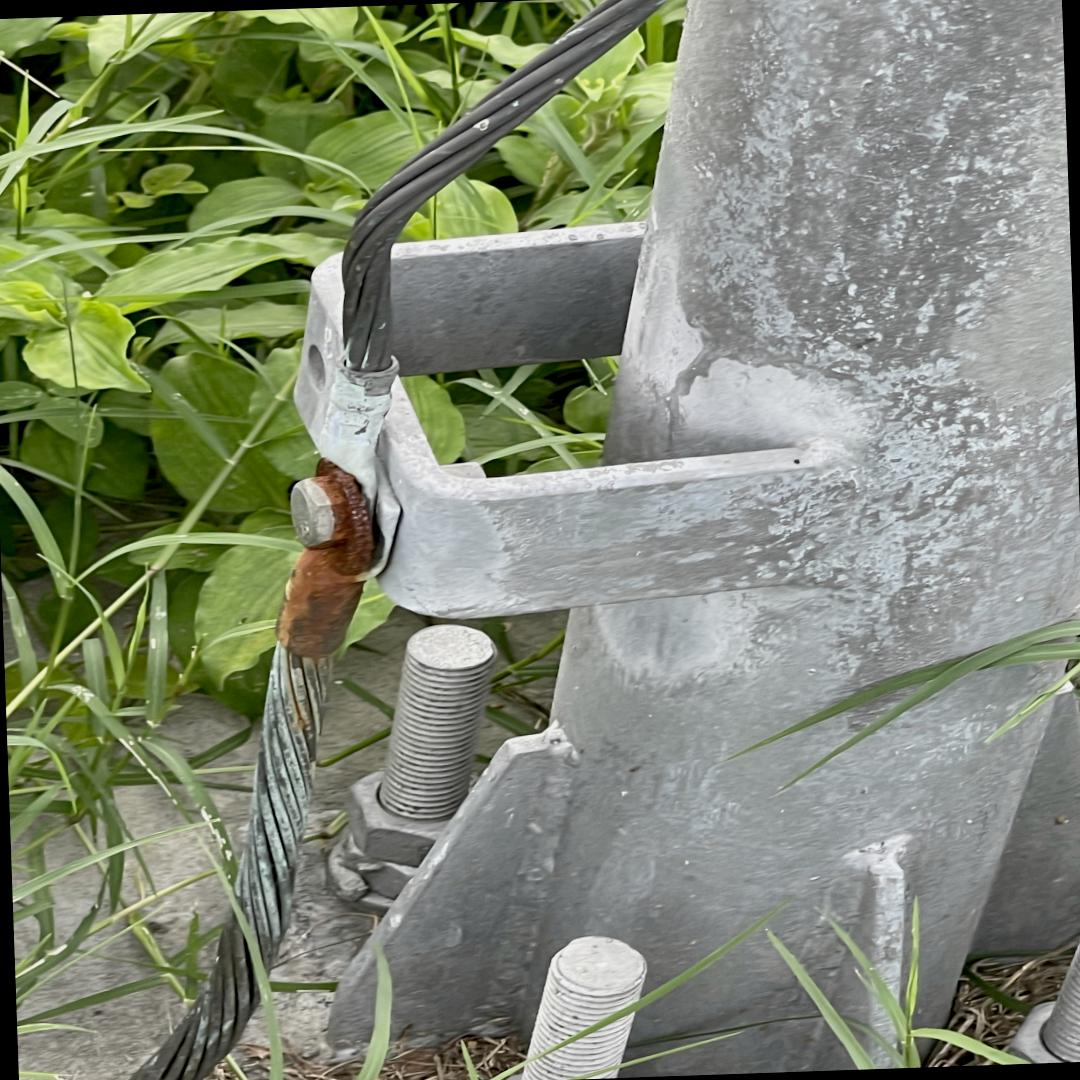Metal: (292, 0, 1080, 1080)
Metal corroido: (275, 459, 382, 669)
Tornillo sin corrosion: (290, 479, 335, 546)
